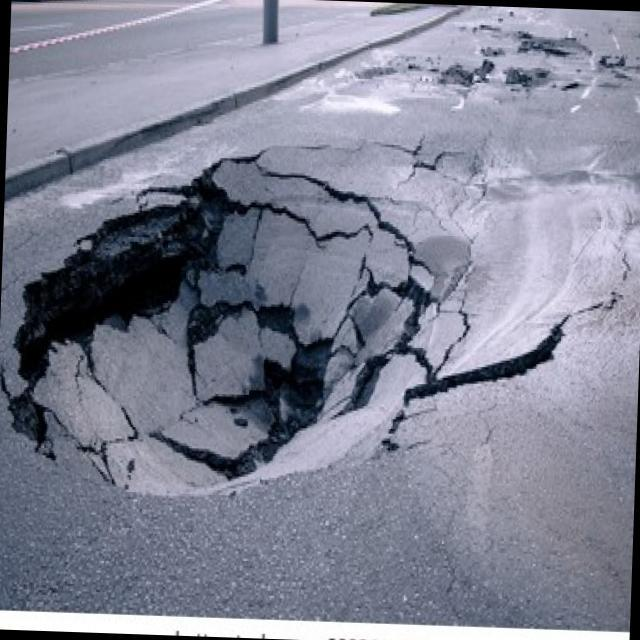Pothole: (0, 133, 498, 511)
